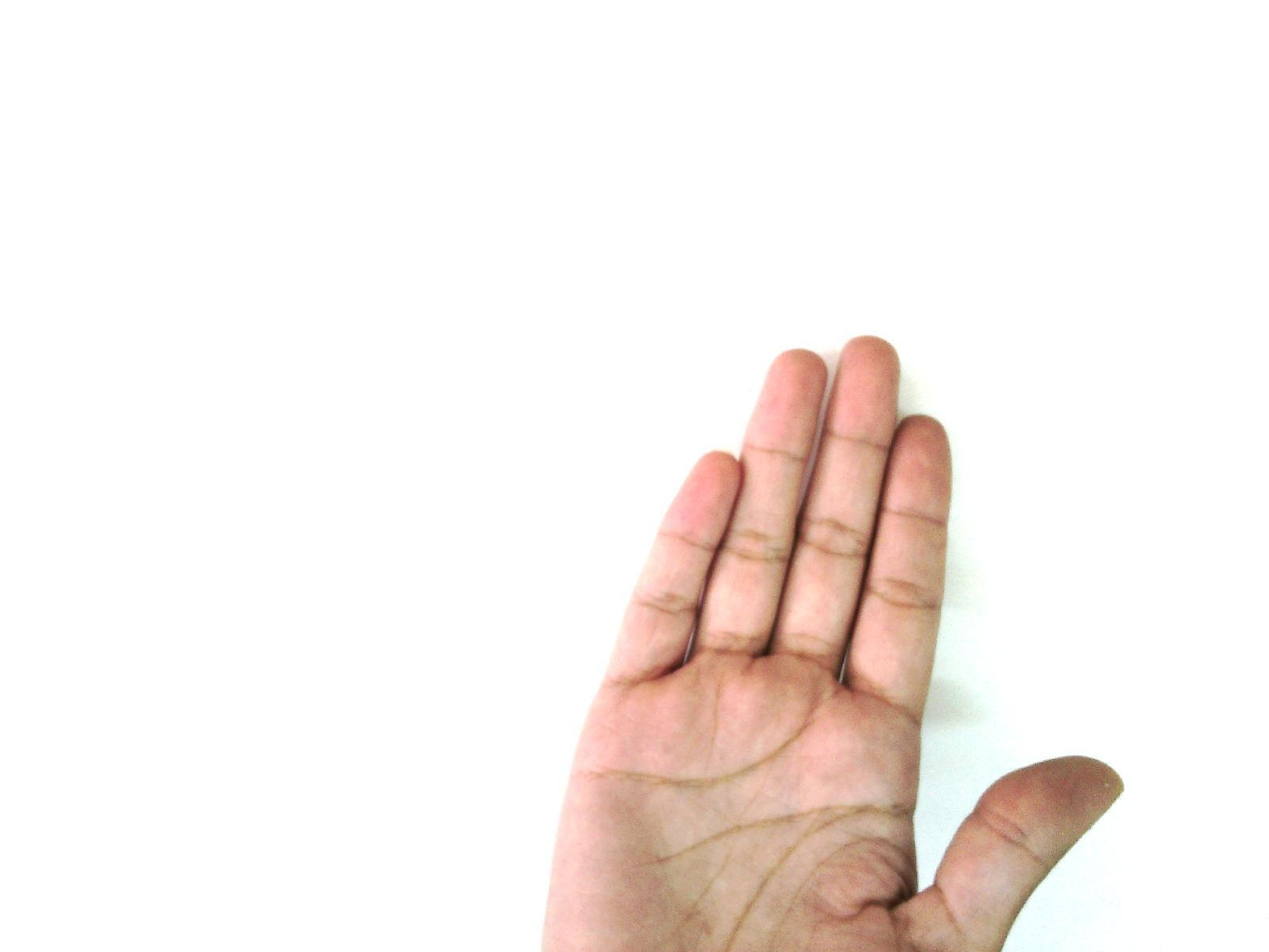open_palm: (538, 334, 1127, 951)
